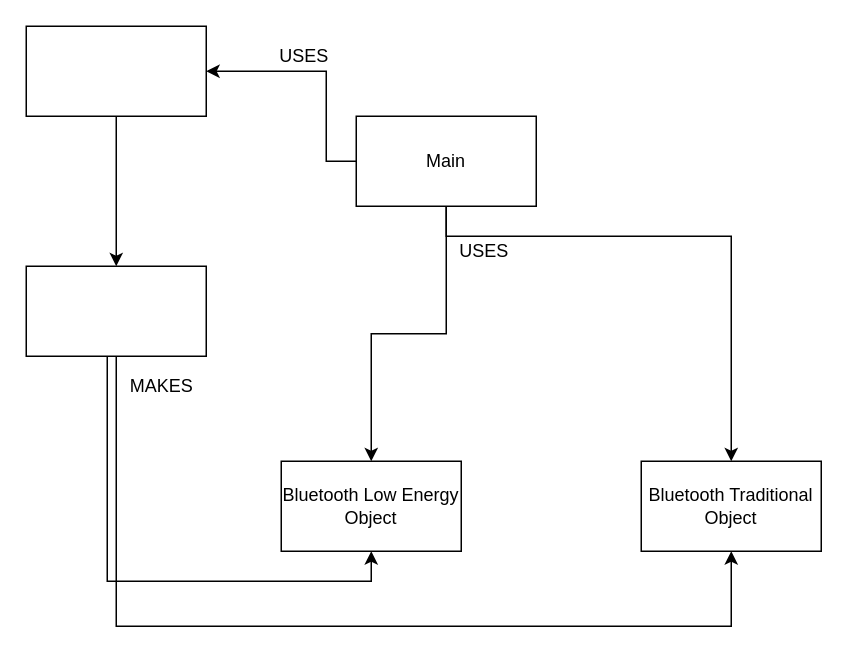
The diagram is 848 pixels wide and 665 high, and some of its shapes have lost their labels. The centre of each missing label's shape, as x and y in pixels:
"Bluetooth" belongs at (115,310).
"Bluetooth Factory" belongs at (115,70).
